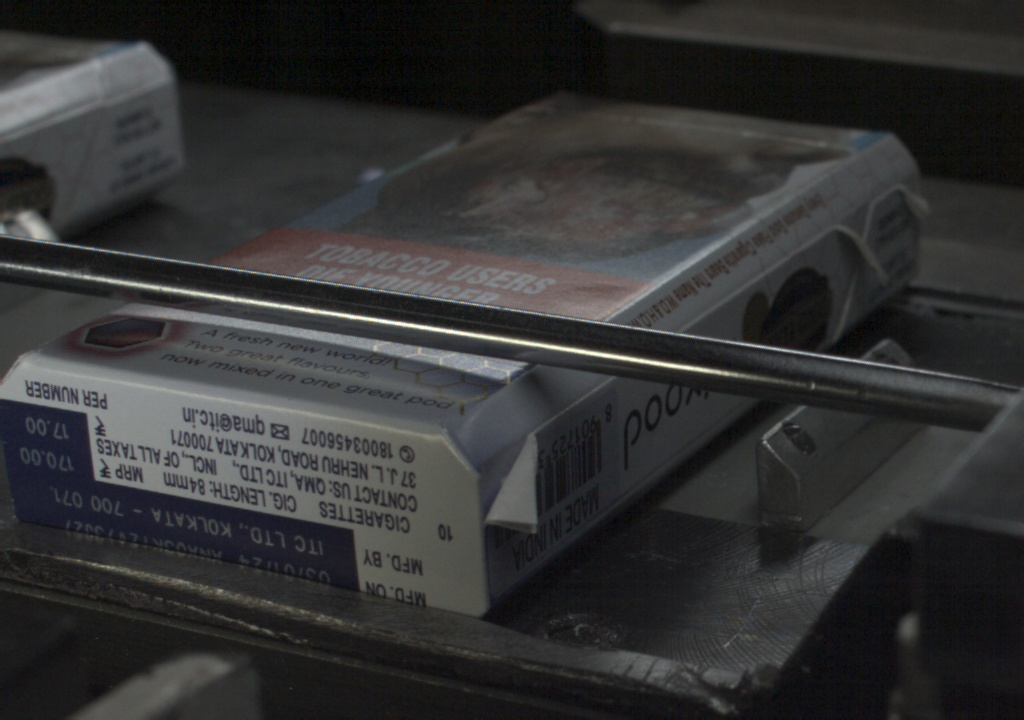g_bottom: (1, 358, 476, 618)
g_label: (10, 481, 364, 588)
ng_lmiter: (485, 427, 543, 538), (839, 201, 883, 285), (893, 170, 930, 217)
price: (1, 409, 92, 481)
